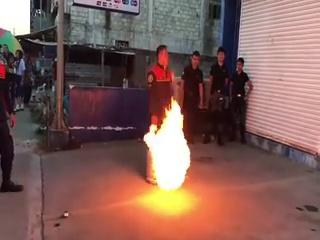Fire: (142, 94, 189, 194)
